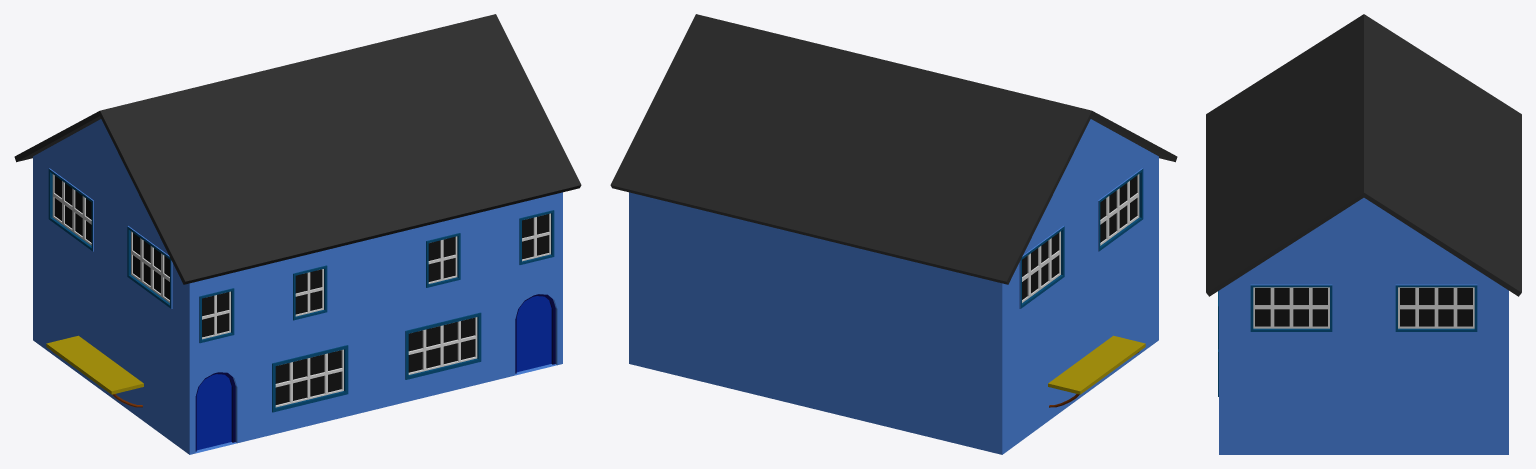
The model's file is House_7.fbx.
3 renders of one model, left to right at view 1: azimuth 30°, elevation 25°; view 2: azimuth 150°, elevation 25°; view 3: azimuth 270°, elevation 25°, orthographic. The views are drawn at different scales.
Visible parts, largest first — view 1: Cube.002; view 2: Cube.002; view 3: Cube.002.
Part boxes in pixels (x1,y1,x2,y2): Cube.002: (14,14,581,454); Cube.002: (610,14,1177,454); Cube.002: (1206,14,1521,454).
Bounding box in the file's own units: 737 × 489 × 523.
